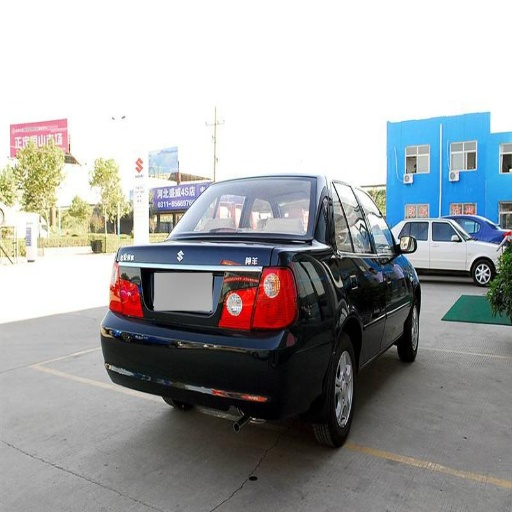back_bumper: (101, 311, 330, 417)
back_glass: (178, 179, 309, 238)
back_left_light: (110, 258, 143, 317)
back_right_door: (342, 224, 384, 356)
tailgate: (120, 236, 261, 330)
trunk: (222, 239, 312, 333)
